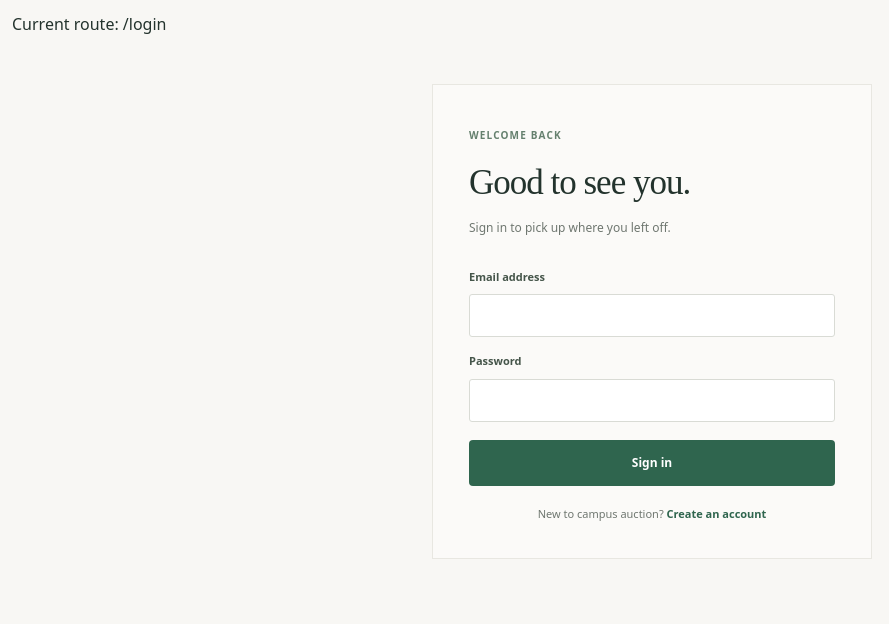
Test case: login and protected routes › shows a safe invalid-credentials message
Type "student@example.edu" into the field labelled "Email address" at [652, 316], box x1=469 y1=294 x2=835 y2=337
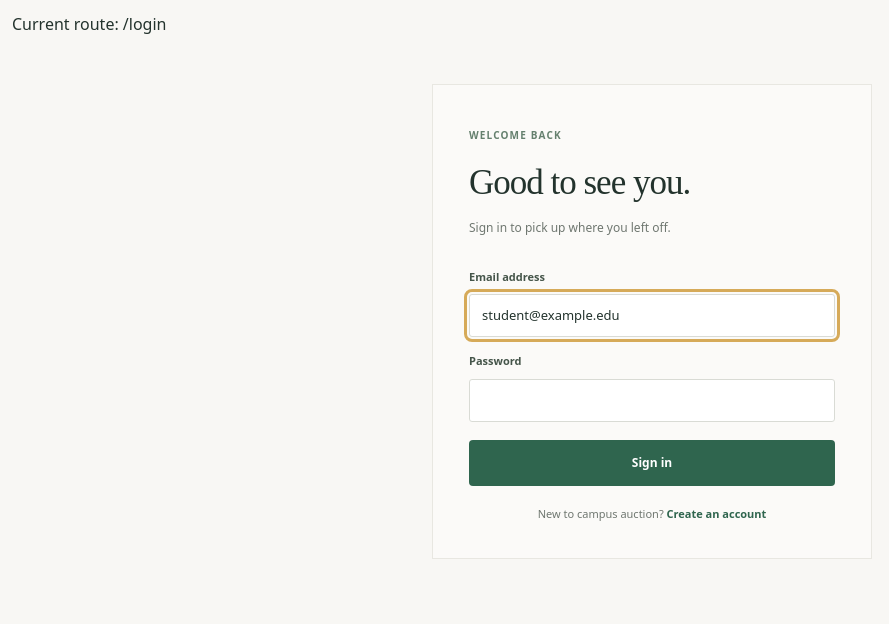
Type "incorrect-password" into the password field labelled "Password" at [652, 400], box x1=469 y1=379 x2=835 y2=422
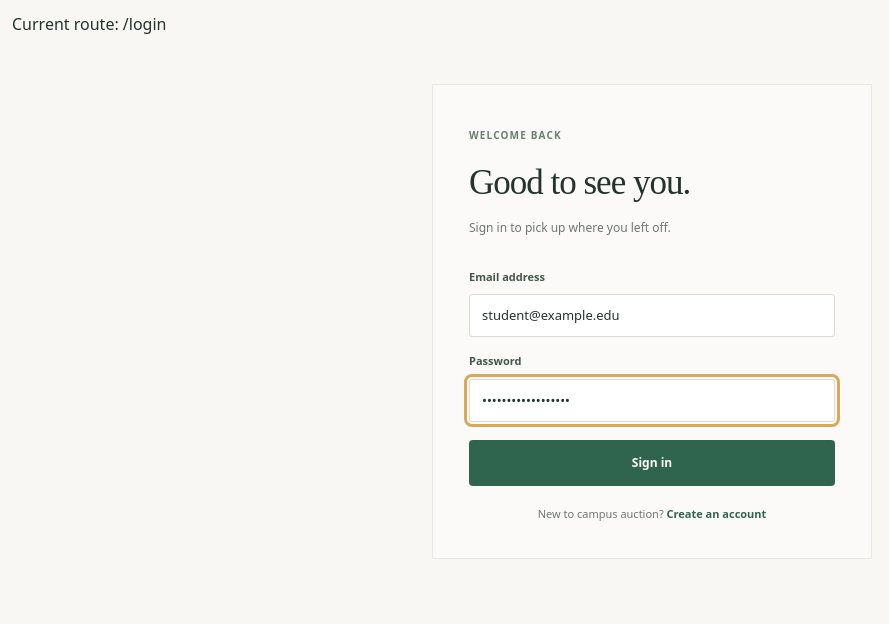
Click the button "Sign in" at [652, 463], box x1=469 y1=440 x2=835 y2=486
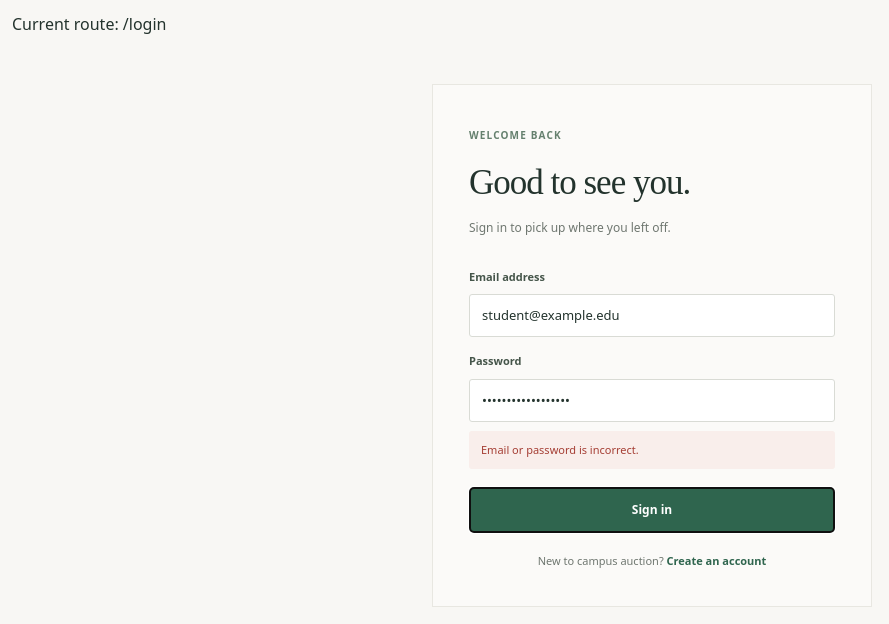
Now the text "Email or password is incorrect." is shown, box x1=469 y1=431 x2=835 y2=469
